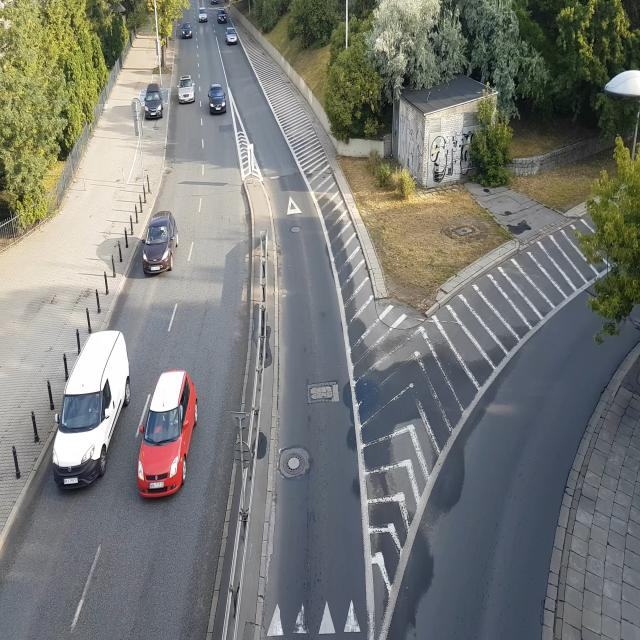car: (49, 334, 132, 490), (138, 363, 198, 501), (142, 211, 178, 277), (144, 88, 165, 119), (209, 84, 228, 114), (179, 78, 197, 104), (227, 28, 239, 45), (181, 24, 194, 39), (217, 13, 228, 24), (198, 10, 208, 22)
